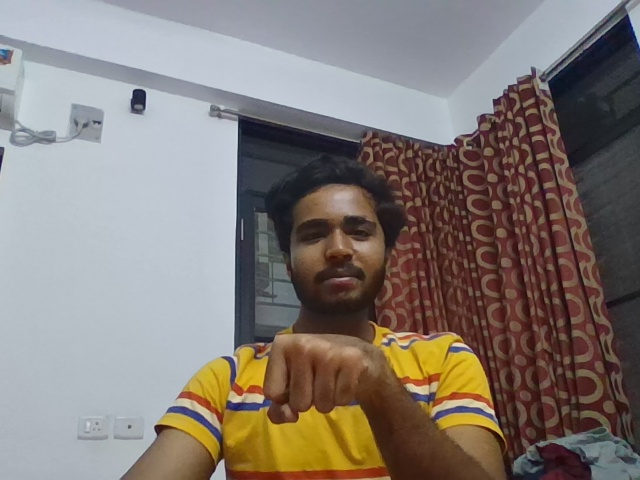Yes: (252, 317, 413, 439)
